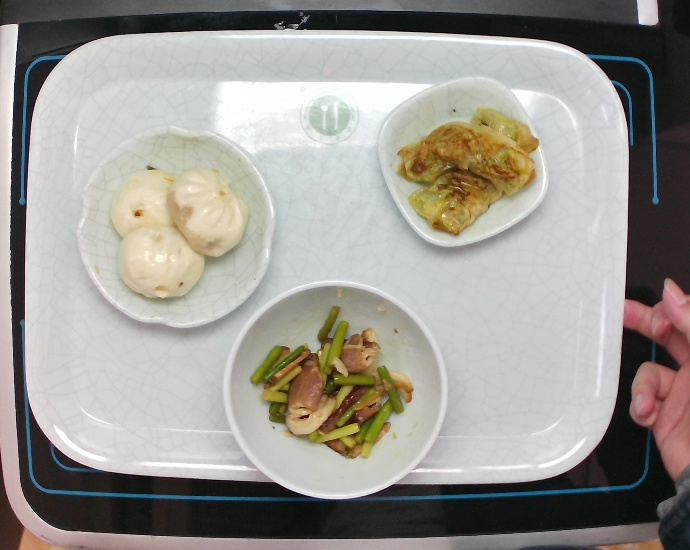JYsf-Ao_Yuan_Wan: (75, 121, 282, 331)
JYsf-Fan_Wan: (225, 275, 448, 501)
JYsf-Si_Fang_Die: (376, 76, 549, 248)
